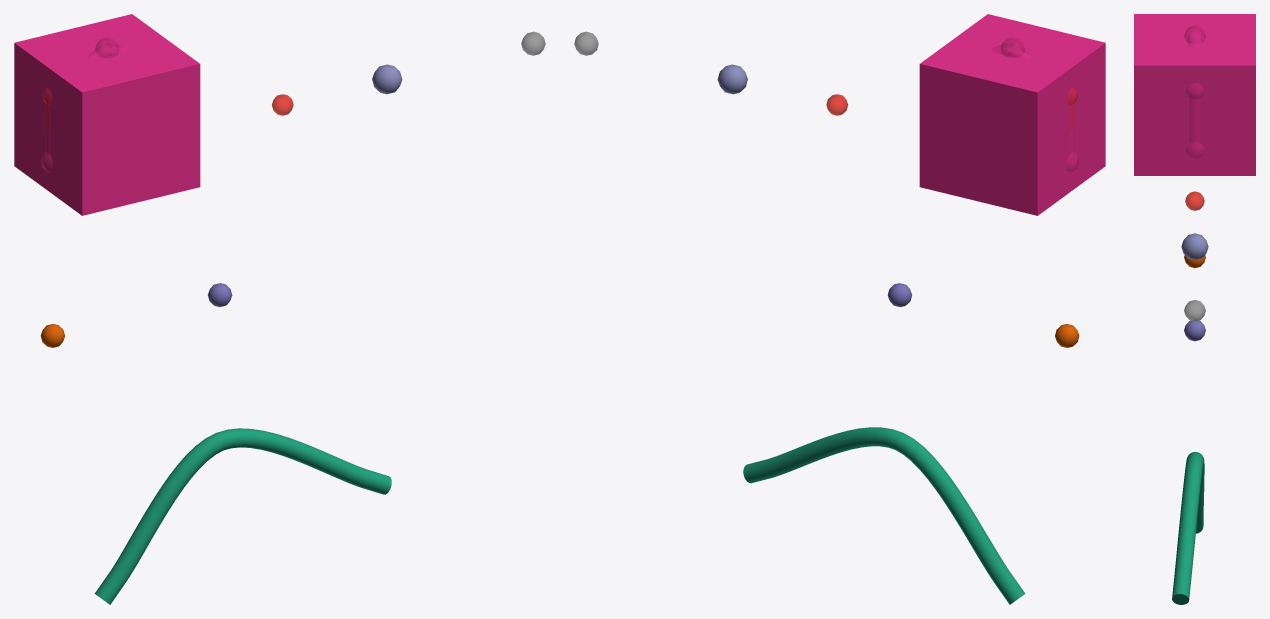
The model's file is configured-viewer-cartoon-themes.obj.
The picture shows the model from 3 angles, left to right: view 1: azimuth 30°, elevation 25°; view 2: azimuth 150°, elevation 25°; view 3: azimuth 270°, elevation 25°; orthographic projection. The views are drawn at different scales.
Bounding box in the file's own units: 12.01 × 12.94 × 2.82.
